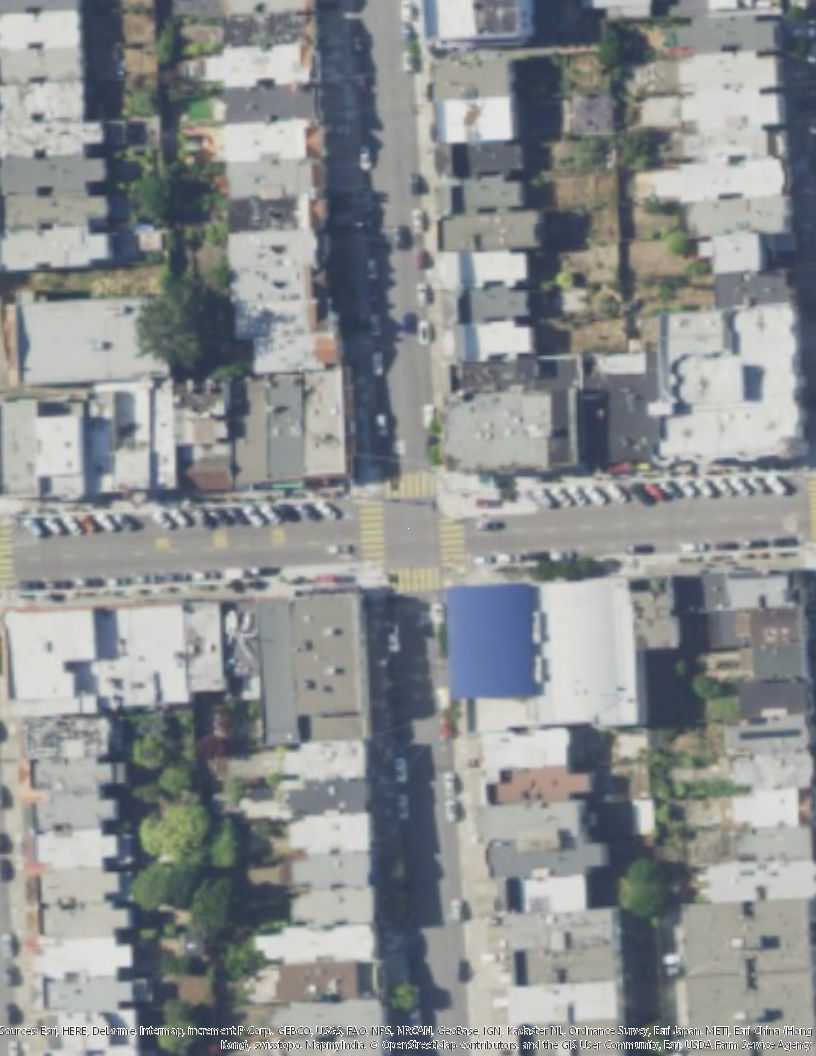zebracross: (360, 499, 382, 562), (439, 520, 467, 566), (386, 474, 437, 499), (397, 567, 442, 591), (1, 522, 15, 584)
